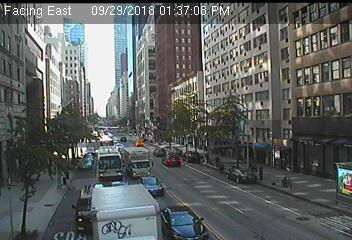car: (90, 185, 162, 240), (72, 185, 108, 237), (159, 206, 209, 240), (123, 147, 153, 179), (96, 149, 122, 181), (225, 167, 255, 185), (137, 176, 163, 196), (163, 155, 180, 167), (182, 151, 199, 163), (79, 158, 91, 170), (152, 147, 165, 156), (167, 148, 181, 156), (83, 153, 92, 163)
